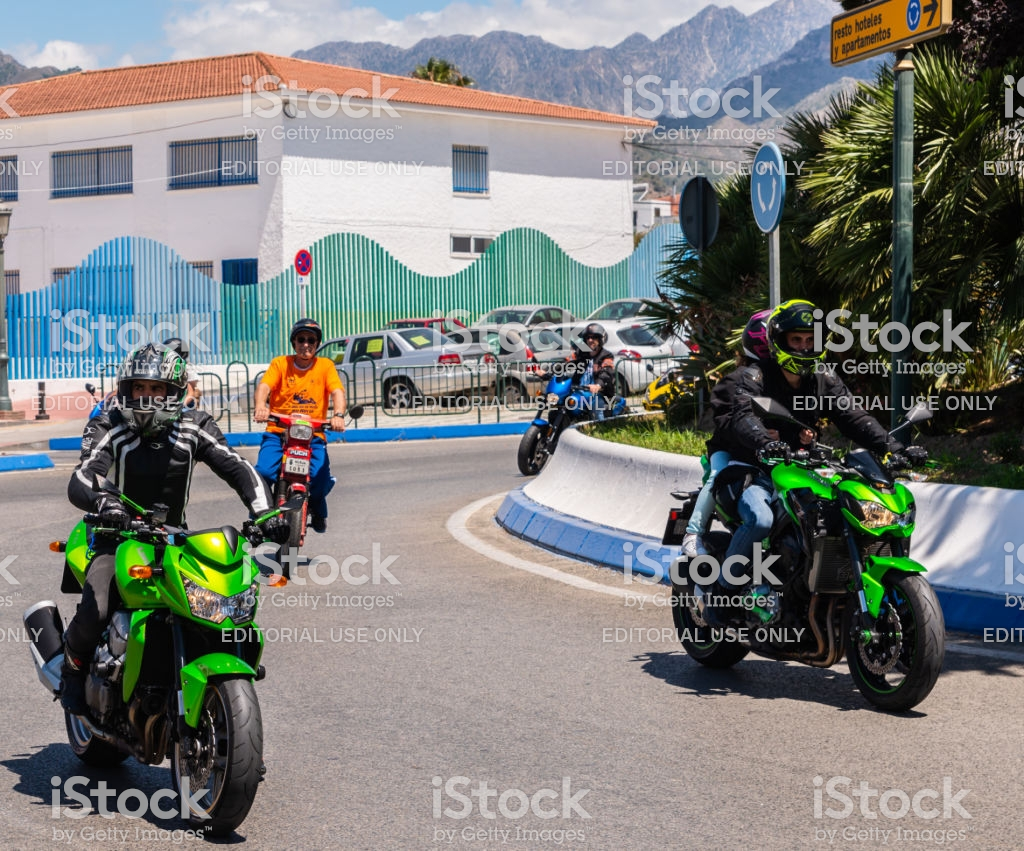helmet: (113, 341, 190, 432), (764, 306, 850, 384), (288, 320, 324, 342), (585, 319, 616, 338)
